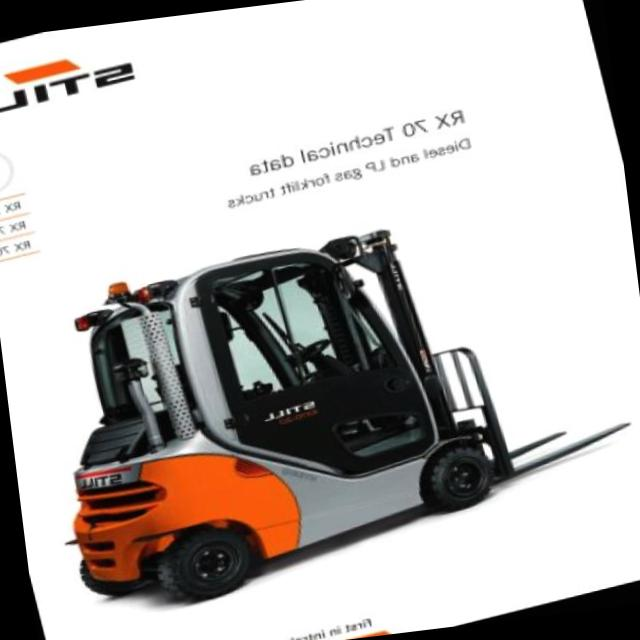forklift: (4, 171, 555, 640)
